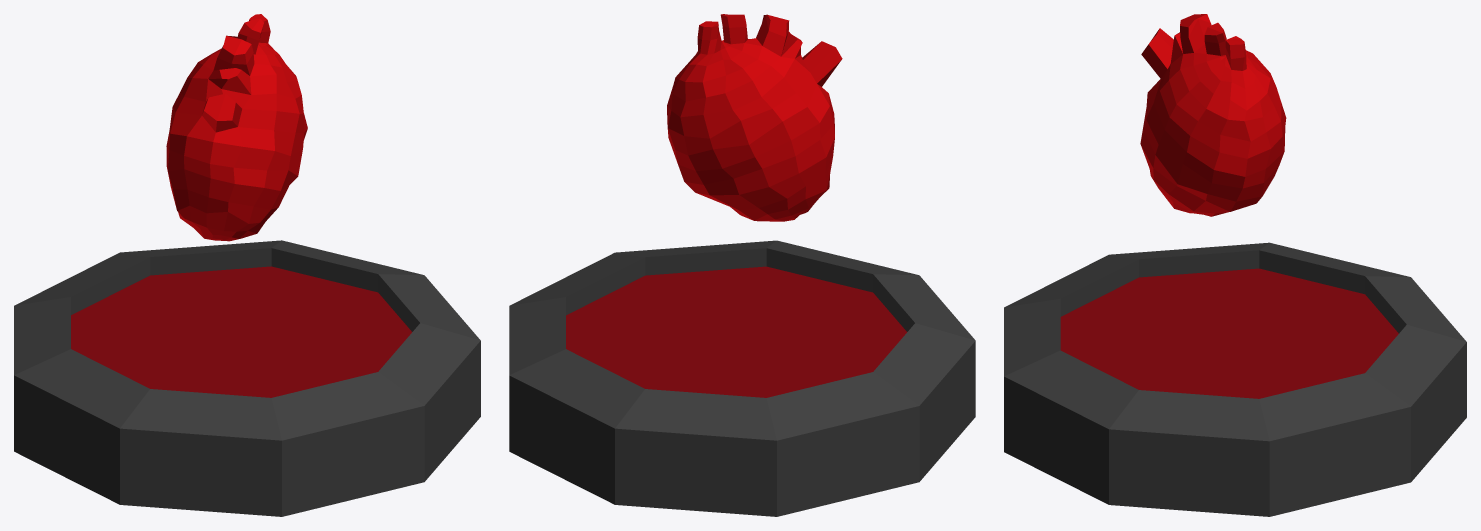
The model's file is HeartContainer.fbx.
3 views of the same model, side by side, from view 1: azimuth 30°, elevation 25°; view 2: azimuth 150°, elevation 25°; view 3: azimuth 270°, elevation 25° (orthographic).
Parts seen in each view (by area): view 1: CageStand Foot, Heart; view 2: CageStand Foot, Heart; view 3: CageStand Foot, Heart.
Boxes of the visible parts, x1,y1,x2,y2 form: CageStand Foot: (14, 240, 480, 516); Heart: (166, 14, 307, 241); CageStand Foot: (509, 240, 975, 516); Heart: (667, 14, 842, 221); CageStand Foot: (1004, 242, 1466, 516); Heart: (1140, 14, 1286, 216).
Size of the model in its own units: 576 by 534 by 567.
